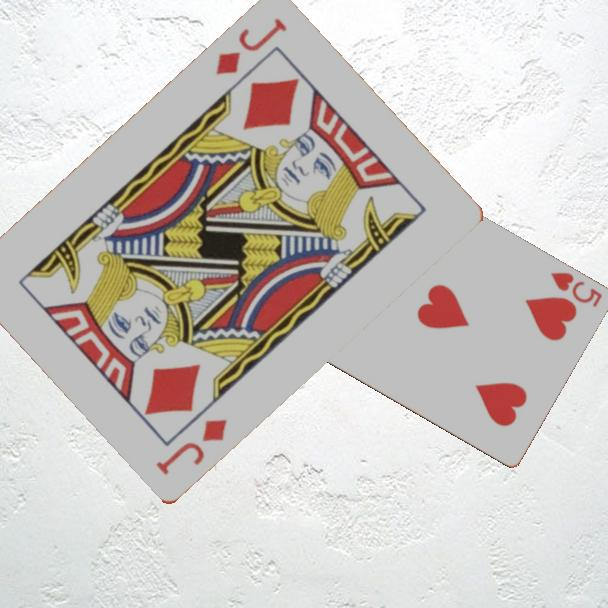d11: (212, 15, 290, 79), (152, 416, 231, 479)
h05: (547, 269, 605, 310)
